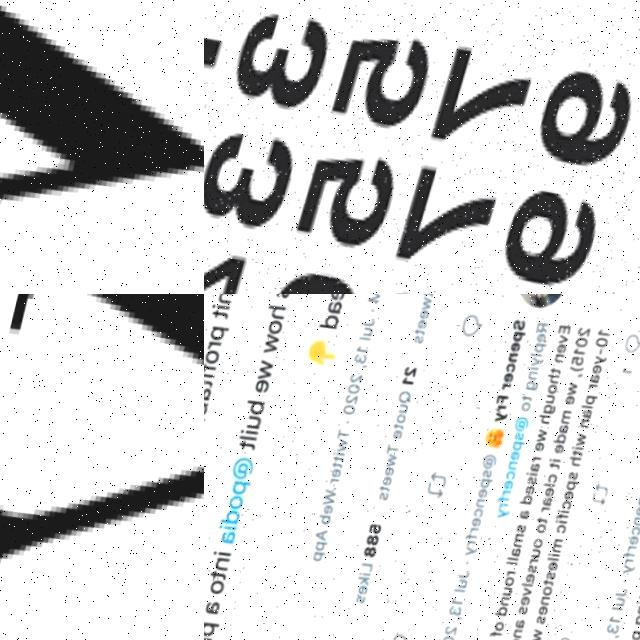0: (347, 384, 362, 396), (342, 405, 357, 417), (594, 340, 609, 352), (574, 340, 588, 352), (444, 636, 458, 640)
1: (204, 0, 234, 79), (401, 378, 414, 388), (355, 347, 369, 356), (454, 600, 467, 608), (573, 351, 586, 359), (596, 333, 610, 340), (612, 620, 626, 627), (621, 370, 633, 378)
2: (344, 394, 359, 407), (446, 626, 461, 639), (576, 329, 591, 342), (402, 368, 417, 380), (349, 374, 363, 386)
3: (224, 0, 340, 118), (204, 128, 302, 239), (354, 354, 368, 367), (451, 607, 465, 619), (609, 627, 623, 639)
4: (204, 240, 270, 294)
5: (290, 139, 410, 261), (323, 22, 443, 143), (570, 358, 585, 371), (370, 524, 384, 537)
6: (254, 261, 375, 294)
7: (421, 38, 543, 166), (391, 156, 511, 284)
8: (367, 535, 382, 549), (365, 547, 379, 560)
9: (525, 57, 640, 178), (492, 181, 608, 294)
N: (0, 0, 204, 294)
V: (0, 294, 204, 640)
